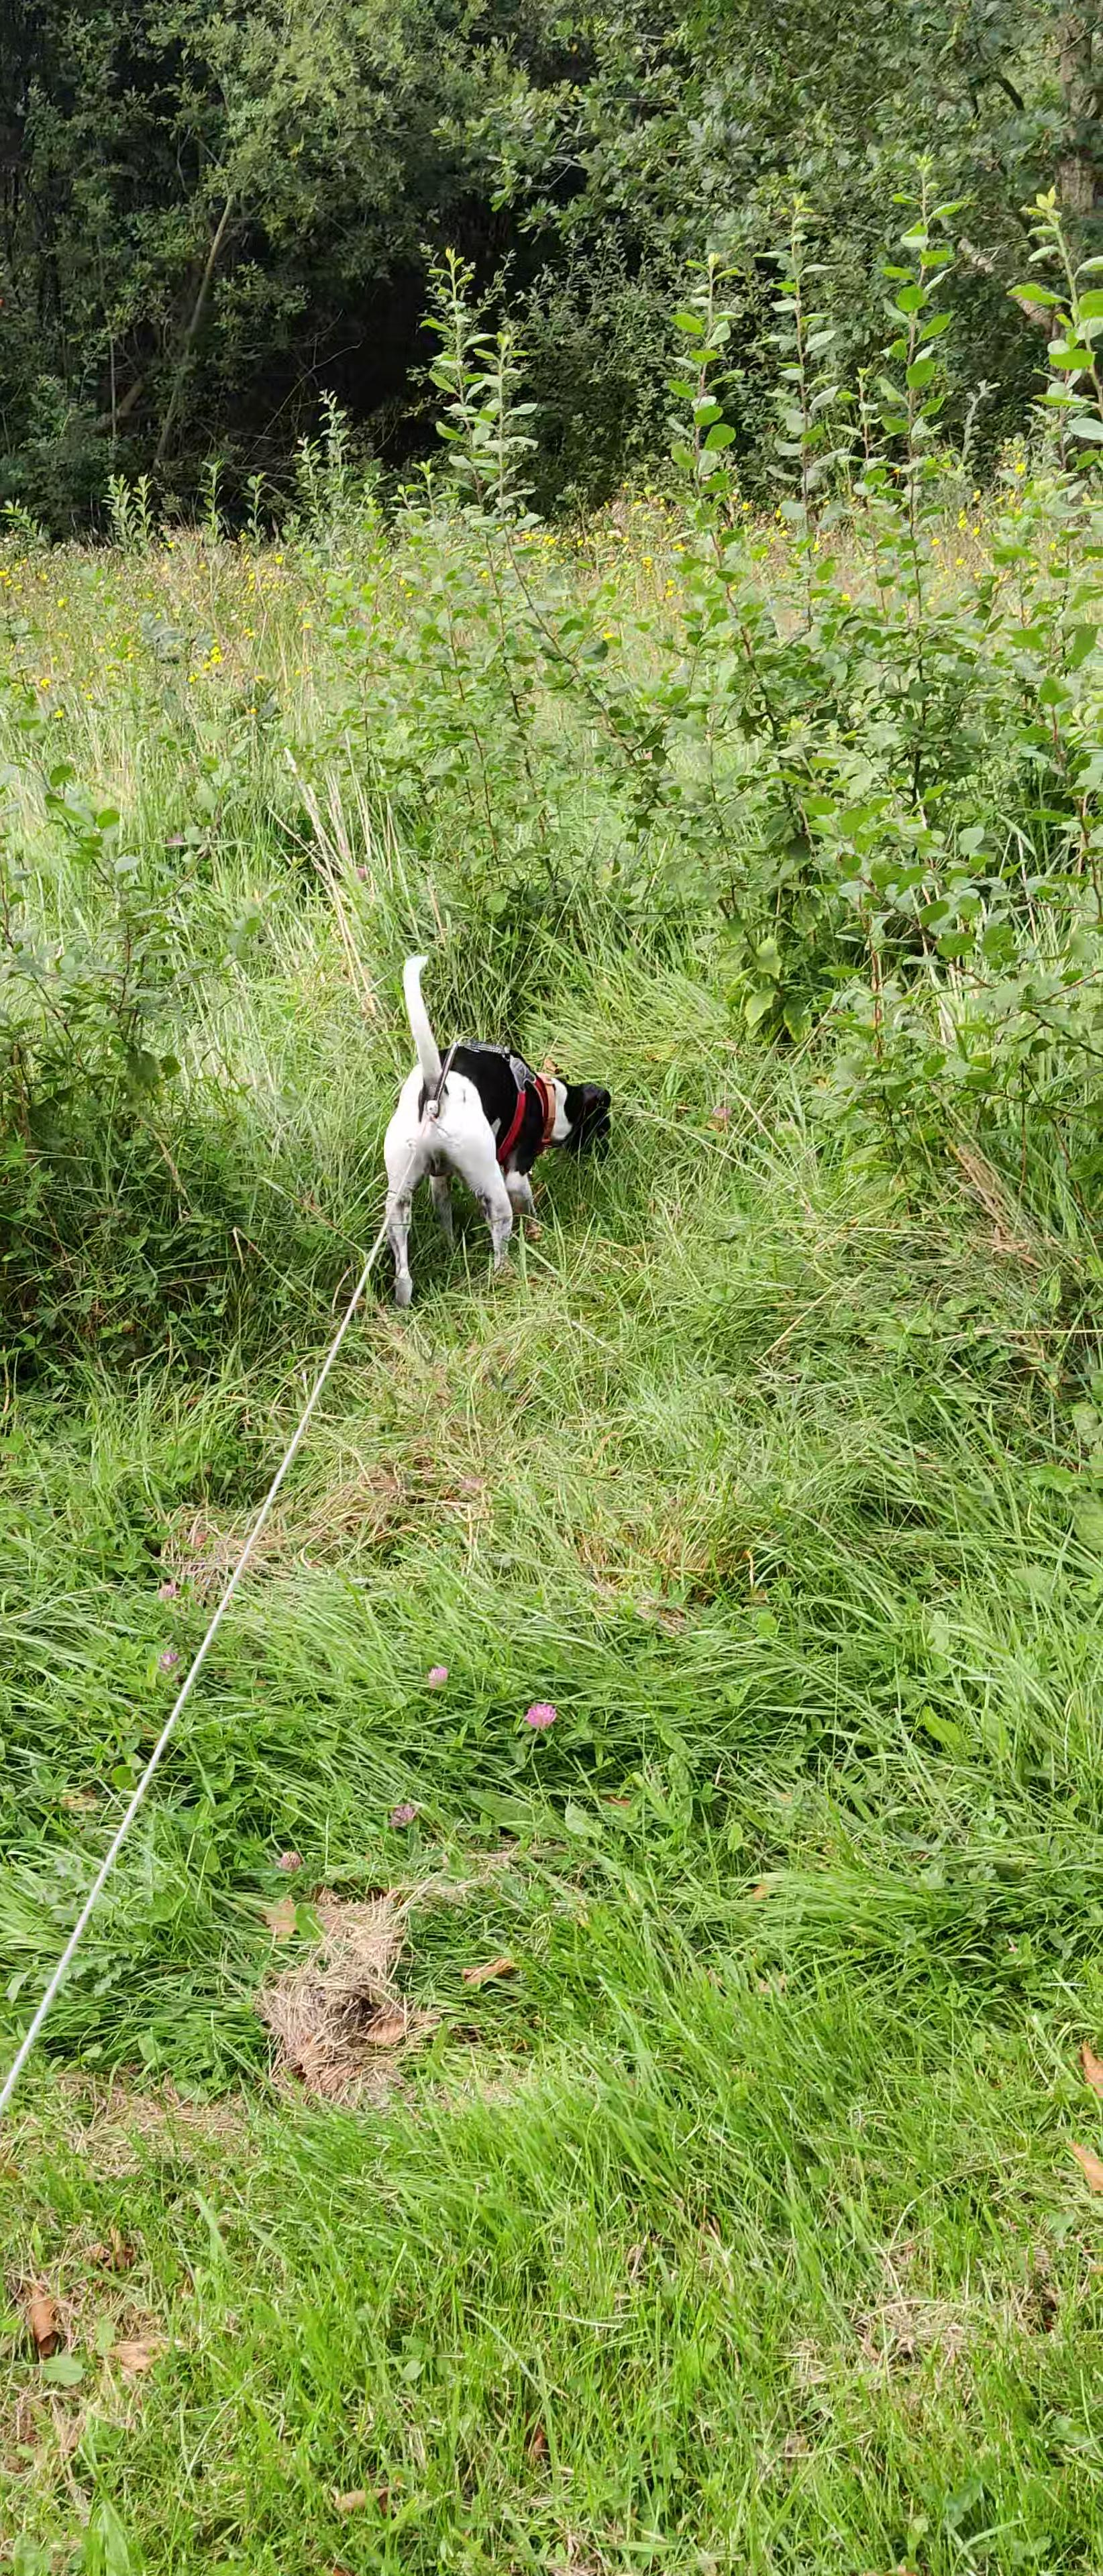Dog: (376, 953, 620, 1306)
